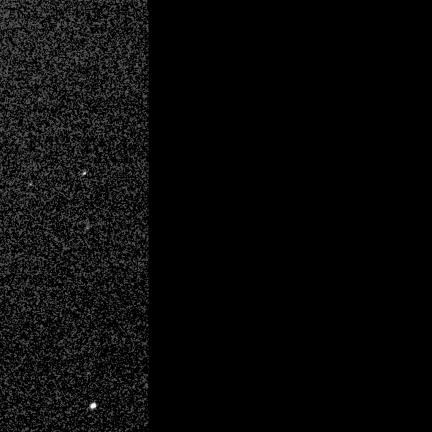blob: (91, 403, 96, 408)
